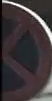No Stopping: (2, 1, 43, 98)
